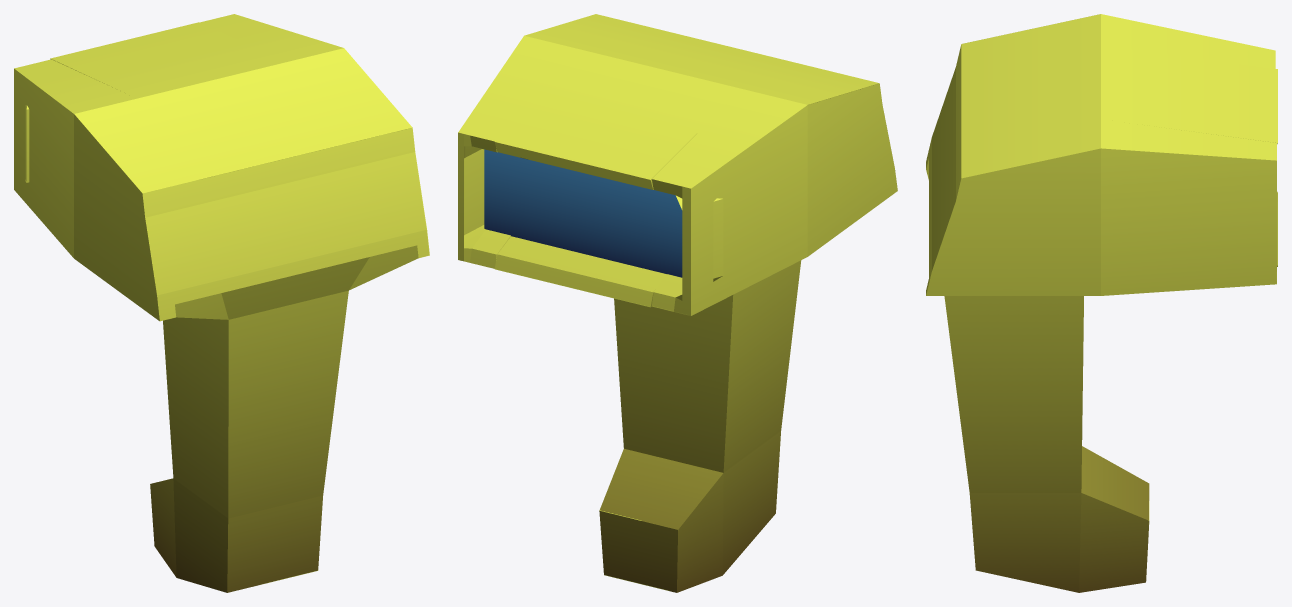
Rendered from Scanner.glb.
3 renders of one model, left to right at view 1: azimuth 30°, elevation 25°; view 2: azimuth 150°, elevation 25°; view 3: azimuth 270°, elevation 25°, orthographic. The views are drawn at different scales.
Visible parts, largest first — view 1: Cube; view 2: Cube, Cube.001; view 3: Cube.
Boxes of the visible parts, x1,y1,x2,y2 form: Cube: (14, 14, 429, 592); Cube: (458, 14, 897, 592); Cube.001: (484, 149, 682, 277); Cube: (926, 14, 1277, 592).
Bounding box in the file's own units: 1.23 × 2.07 × 1.36.
Materials: 2 (2 with a texture image).
